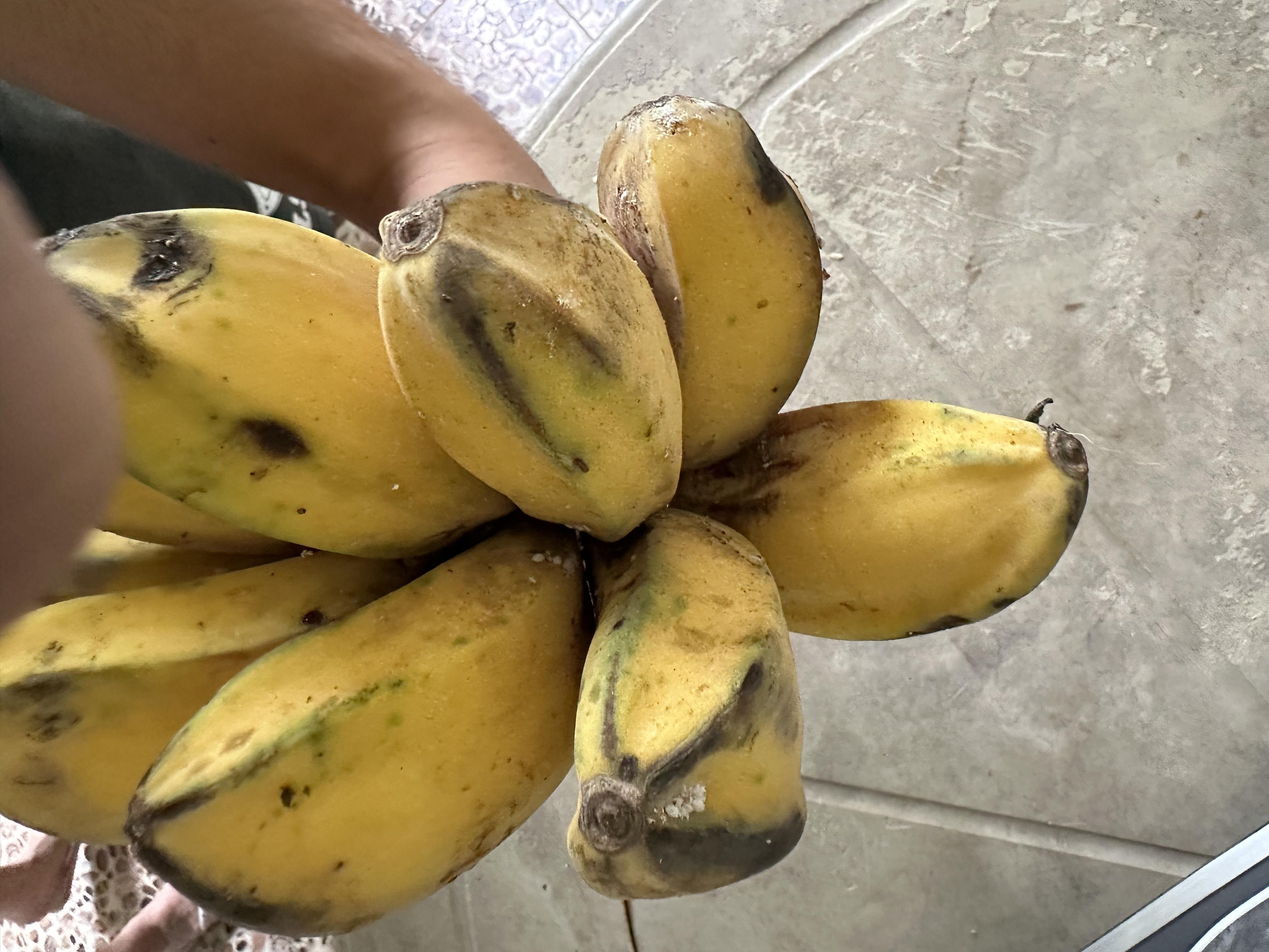ripe: (0, 98, 1088, 935)
